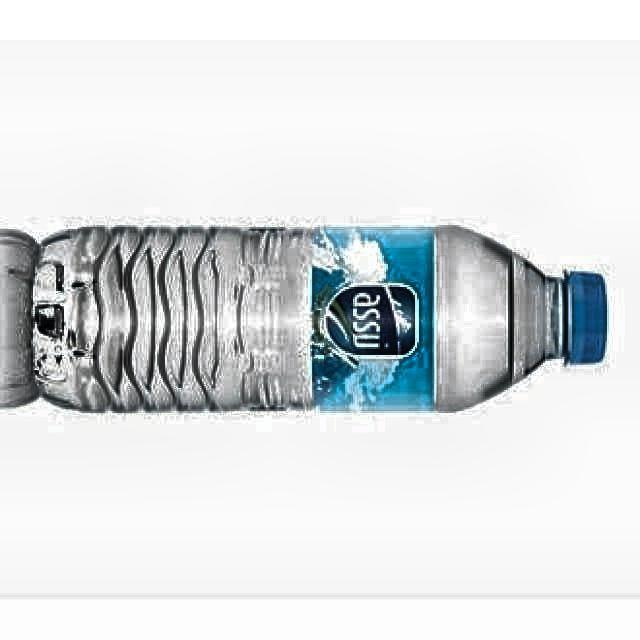plastic: (34, 226, 606, 411)
